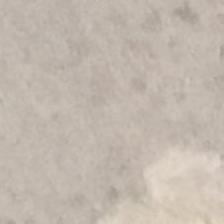Non_Crack: (22, 32, 214, 172)
